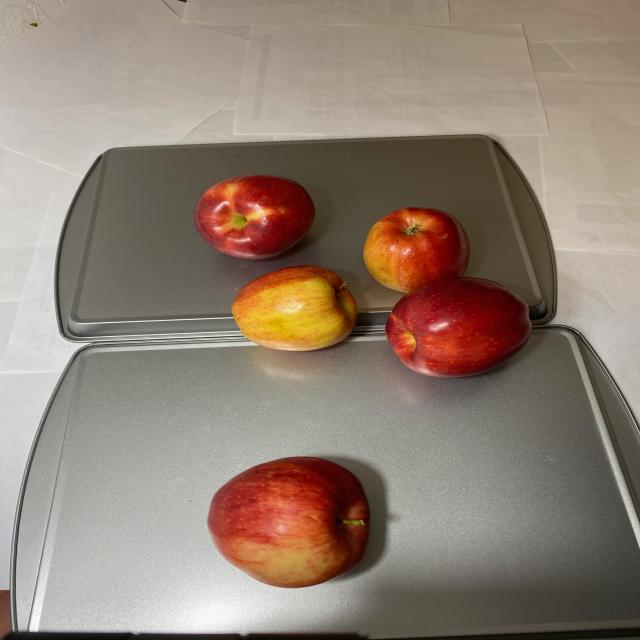apple: (192, 174, 536, 379), (202, 456, 372, 589)
